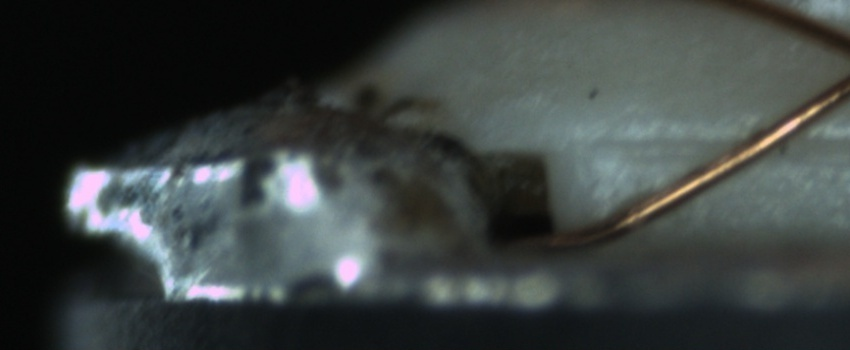DL: (583, 107, 846, 180)
